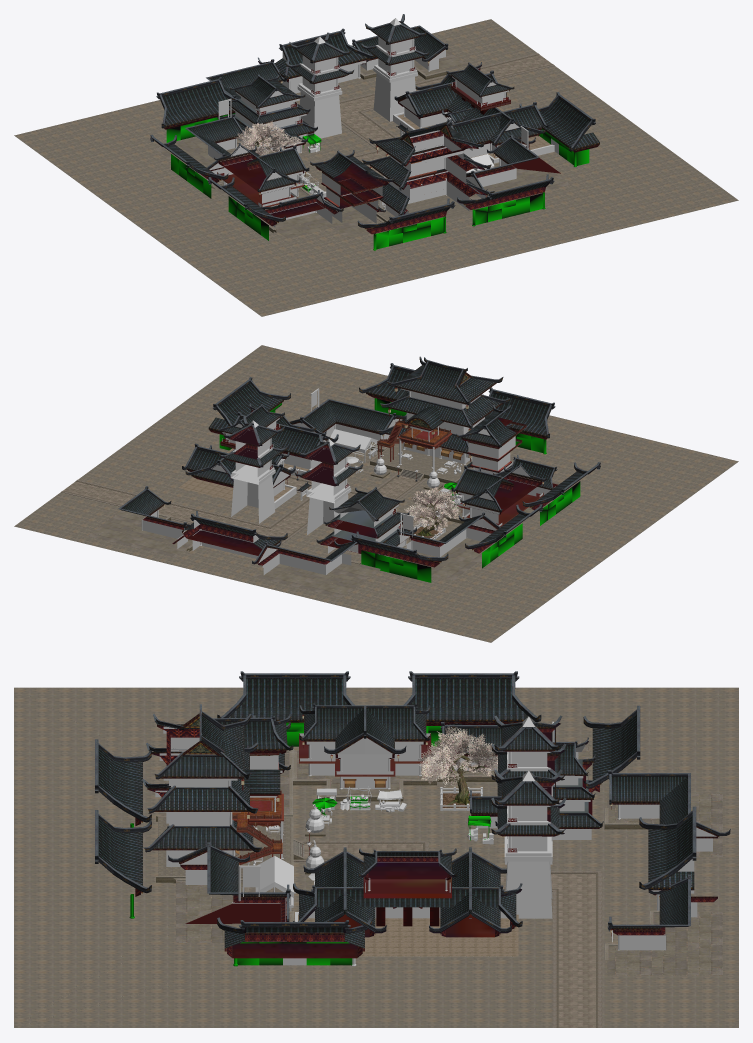
File: map_mesh.FBX
3 renders of one model, top to bottom at view 1: azimuth 30°, elevation 25°; view 2: azimuth 150°, elevation 25°; view 3: azimuth 270°, elevation 25°, orthographic. The views are drawn at different scales.
Visible parts, largest first — view 1: JGQ_dimian, JGQ_jianzhu_001, JGQ_jianzhu_002, JGQ_jianzhudimian_1, JGQ_jianzhu_004, JGQ_lumian, JGQ_jianzhu_003, JGQ_lumianbaobian; view 2: JGQ_dimian, JGQ_jianzhu_001, JGQ_jianzhu_002, JGQ_jianzhudimian_1, JGQ_lumian, JGQ_jianzhu_004, JGQ_jianzhu_003, JGQ_lumianbaobian, JGQ_jianzhudimian_2; view 3: JGQ_dimian, JGQ_jianzhu_001, JGQ_jianzhu_002, JGQ_jianzhudimian_1, JGQ_lumian, JGQ_jianzhu_004, JGQ_jianzhu_003, JGQ_jianzhudimian_2, JGQ_lumianbaobian.
Part boxes in pixels (x1,y1,x2,y2): JGQ_dimian: (14, 19, 738, 316); JGQ_jianzhu_001: (150, 14, 599, 234); JGQ_jianzhu_002: (166, 18, 589, 250); JGQ_jianzhudimian_1: (154, 50, 570, 238); JGQ_jianzhu_004: (234, 46, 510, 206); JGQ_lumian: (340, 55, 552, 178); JGQ_jianzhu_003: (211, 61, 529, 232); JGQ_lumianbaobian: (339, 53, 554, 157); JGQ_dimian: (14, 345, 738, 642); JGQ_jianzhu_001: (118, 356, 600, 567); JGQ_jianzhu_002: (141, 388, 580, 582); JGQ_jianzhudimian_1: (87, 436, 572, 597); JGQ_lumian: (63, 475, 419, 540); JGQ_jianzhu_004: (220, 374, 526, 539); JGQ_jianzhu_003: (158, 387, 560, 564); JGQ_lumianbaobian: (61, 471, 427, 545); JGQ_jianzhudimian_2: (179, 448, 308, 501); JGQ_dimian: (14, 687, 738, 1027); JGQ_jianzhu_001: (95, 671, 730, 958); JGQ_jianzhu_002: (129, 716, 716, 966); JGQ_jianzhudimian_1: (158, 746, 722, 975); JGQ_lumian: (304, 844, 598, 1027); JGQ_jianzhu_004: (185, 716, 516, 926); JGQ_jianzhu_003: (156, 714, 659, 959); JGQ_jianzhudimian_2: (298, 914, 518, 956); JGQ_lumianbaobian: (293, 841, 601, 1027).
Bounding box in the file's own units: 375 × 71.96 × 337.
